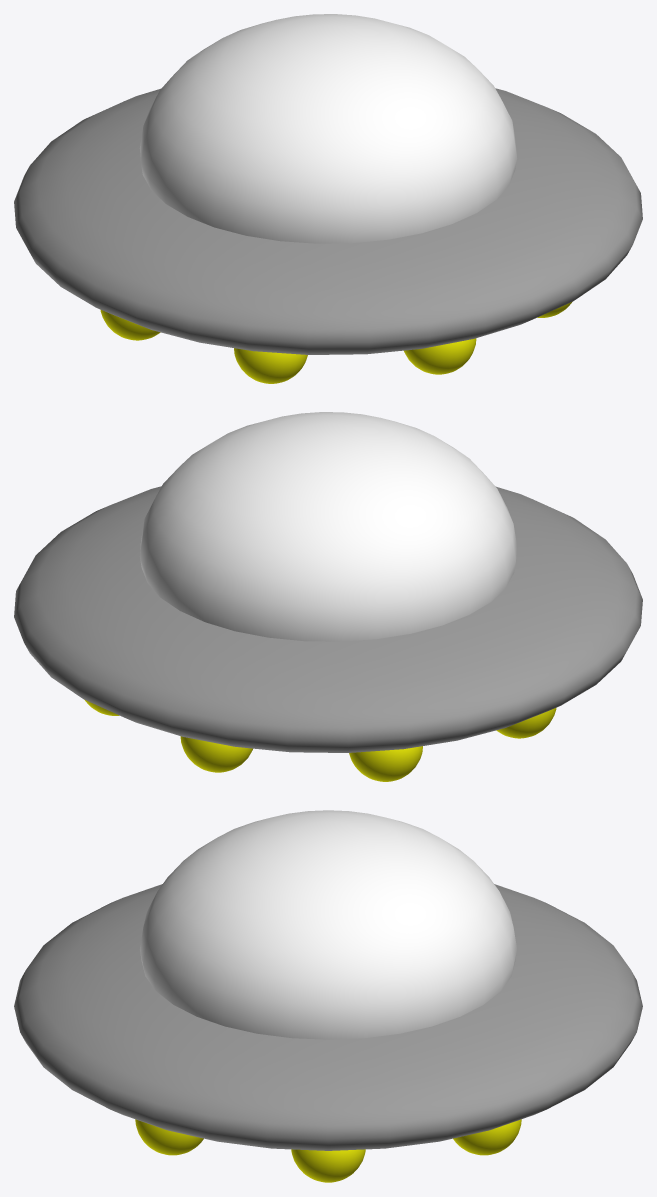
File: ufo.obj
3 renders of one model, top to bottom at view 1: azimuth 30°, elevation 25°; view 2: azimuth 150°, elevation 25°; view 3: azimuth 270°, elevation 25°, orthographic.
Parts seen in each view (by area): view 1: 球, 球.001, 球.009, 球.004, 球.003; view 2: 球, 球.001, 球.007, 球.005, 球.003; view 3: 球, 球.001, 球.002, 球.006, 球.008.
Part boxes in pixels (x1,y1,x2,y2): 球: [14, 88, 642, 354]; 球.001: [139, 14, 517, 243]; 球.009: [234, 348, 307, 383]; 球.004: [404, 338, 476, 374]; 球.003: [100, 309, 160, 340]; 球: [14, 486, 642, 752]; 球.001: [139, 412, 517, 641]; 球.007: [349, 746, 422, 781]; 球.005: [180, 736, 252, 772]; 球.003: [496, 707, 556, 738]; 球: [14, 884, 642, 1150]; 球.001: [140, 810, 516, 1039]; 球.002: [291, 1149, 365, 1182]; 球.006: [453, 1119, 521, 1155]; 球.008: [135, 1119, 203, 1155].
Bounding box in the file's own units: 100 × 44 × 100.
